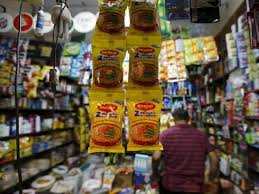maggie: (127, 98, 163, 150), (90, 98, 123, 148), (92, 45, 123, 92), (129, 44, 160, 90)
